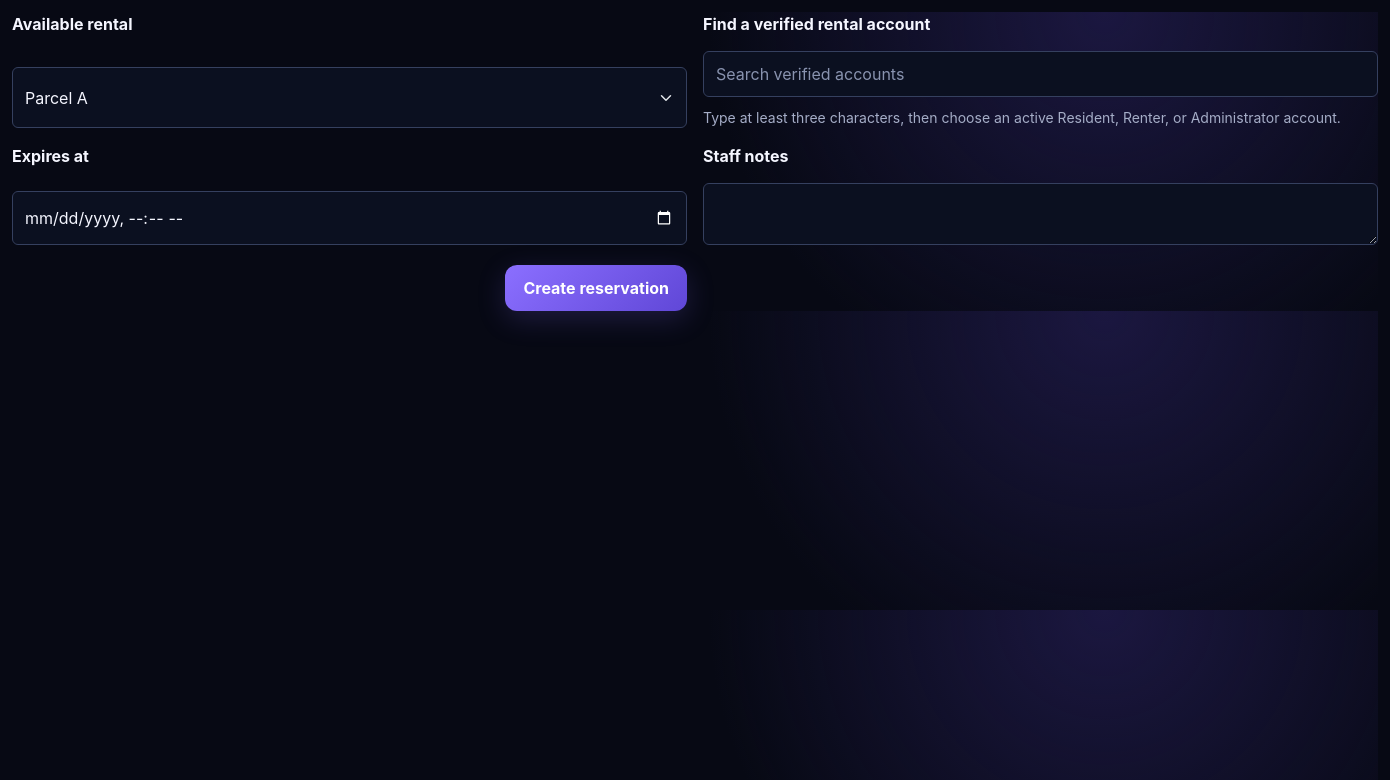
Test: management modal behavior › uses an account typeahead and preserves reservation fields after server errors
The width and height of the screenshot is (1390, 780).
In the dropdown labelled "Find a verified rental account": {"x": 1040, "y": 74} [703,51,1378,97], type "ril"
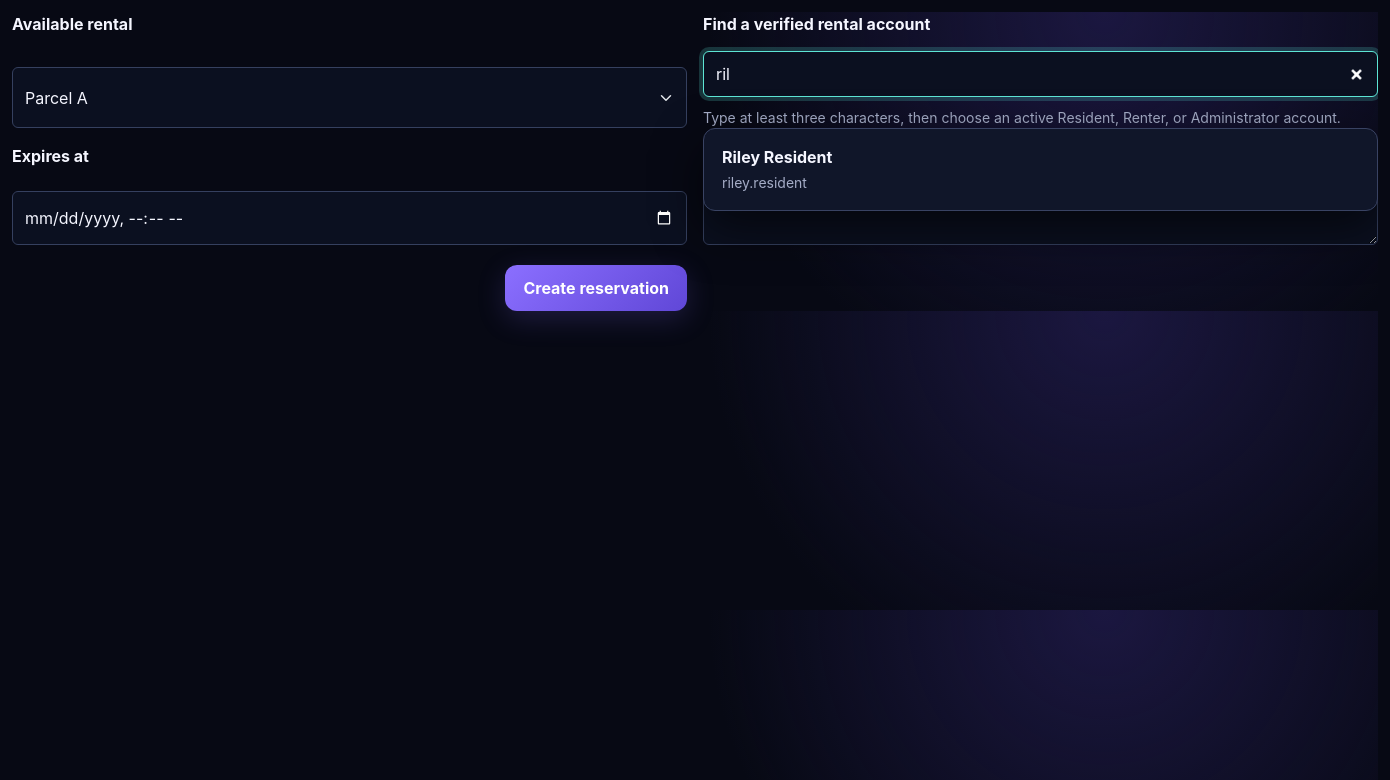
Click the option "Riley Resident riley.resident": {"x": 777, "y": 157} [710,136,1371,204]
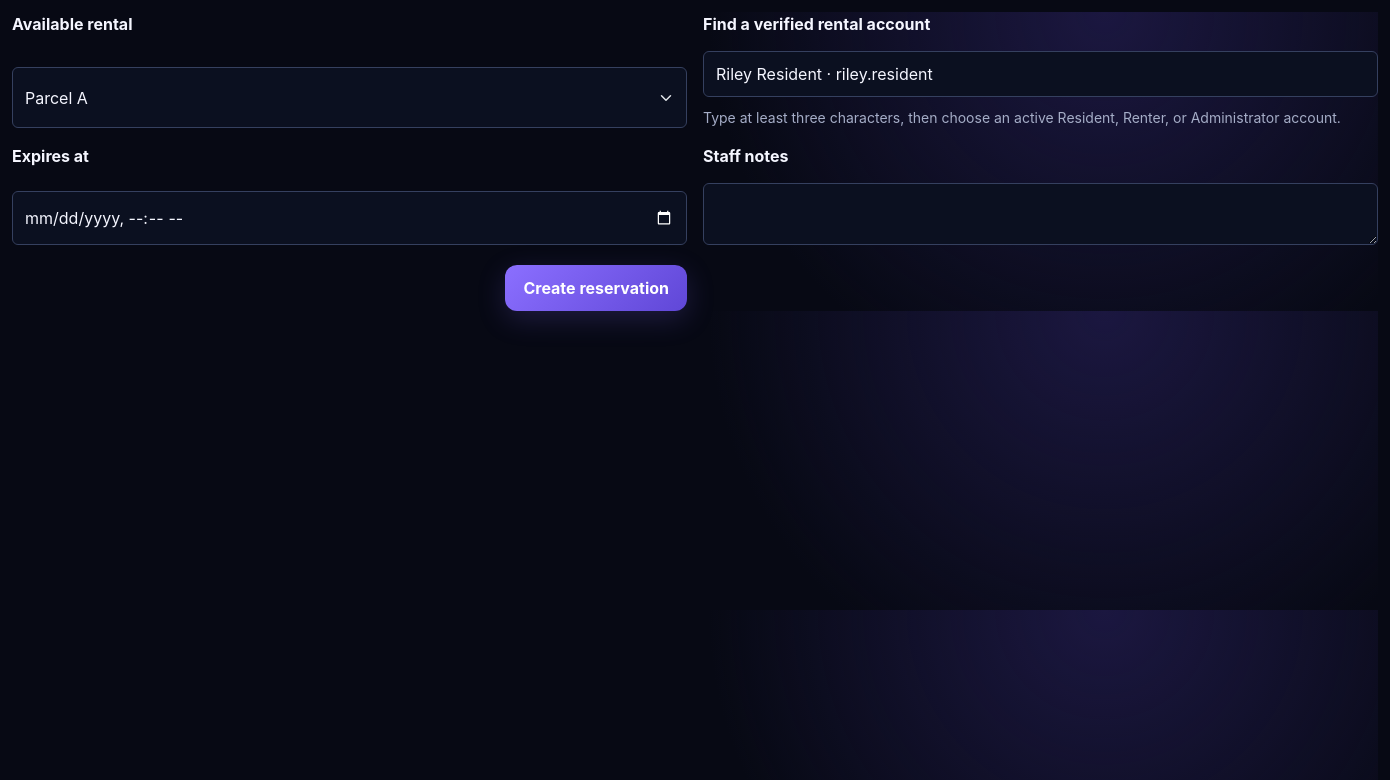
In the field labelled "Expires at": {"x": 350, "y": 218} [12,191,687,245], type "2026-09-15T12:00"
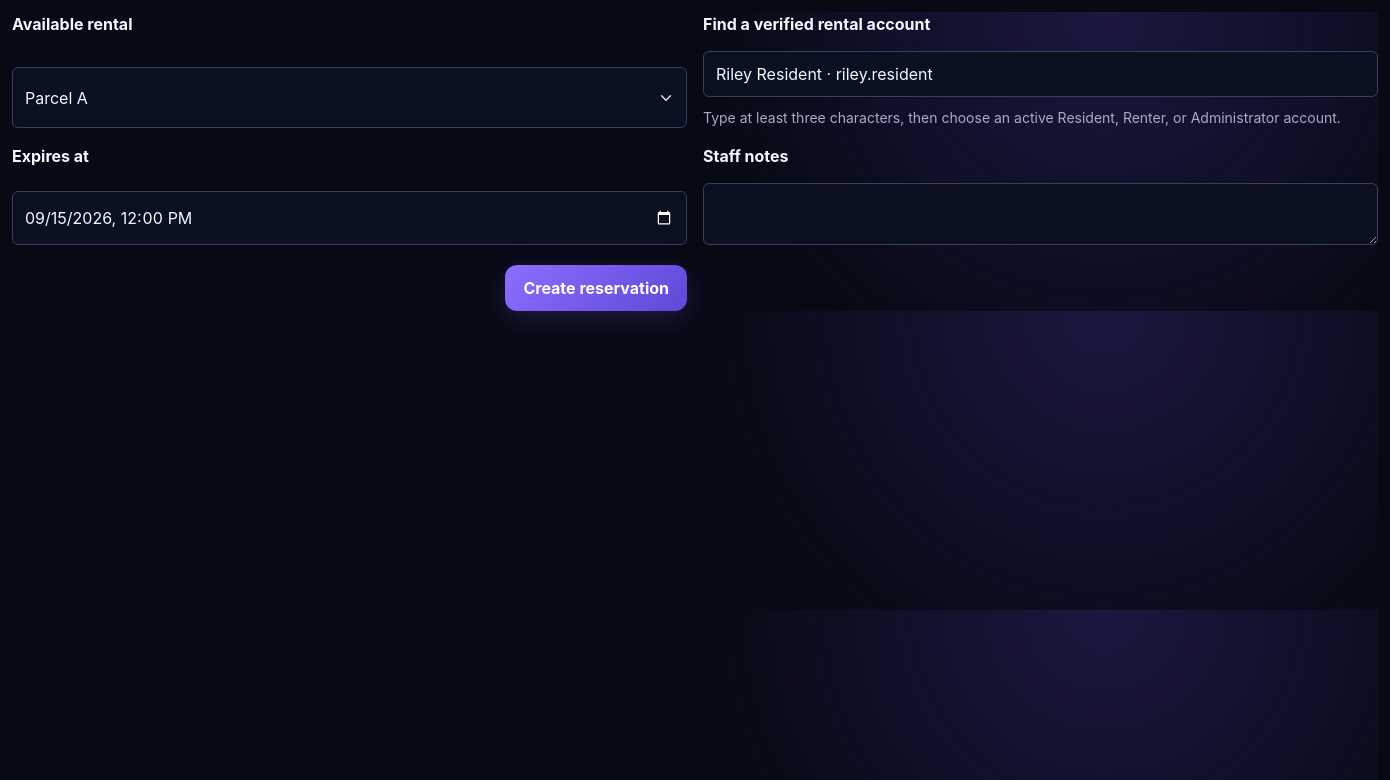
In the text box labelled "Staff notes": {"x": 1040, "y": 214} [703,183,1378,245], type "Keep these notes"
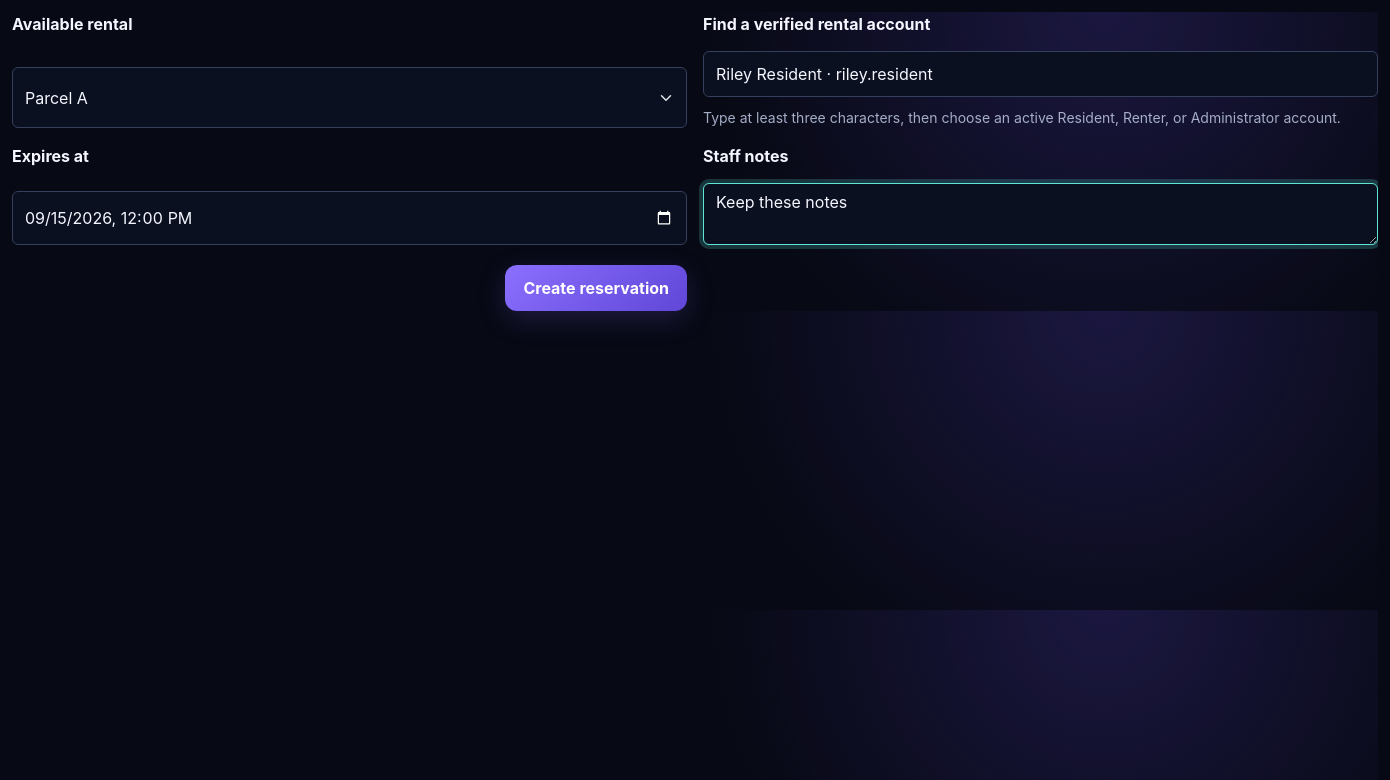
Click the button "Create reservation": {"x": 596, "y": 288} [505,265,687,311]
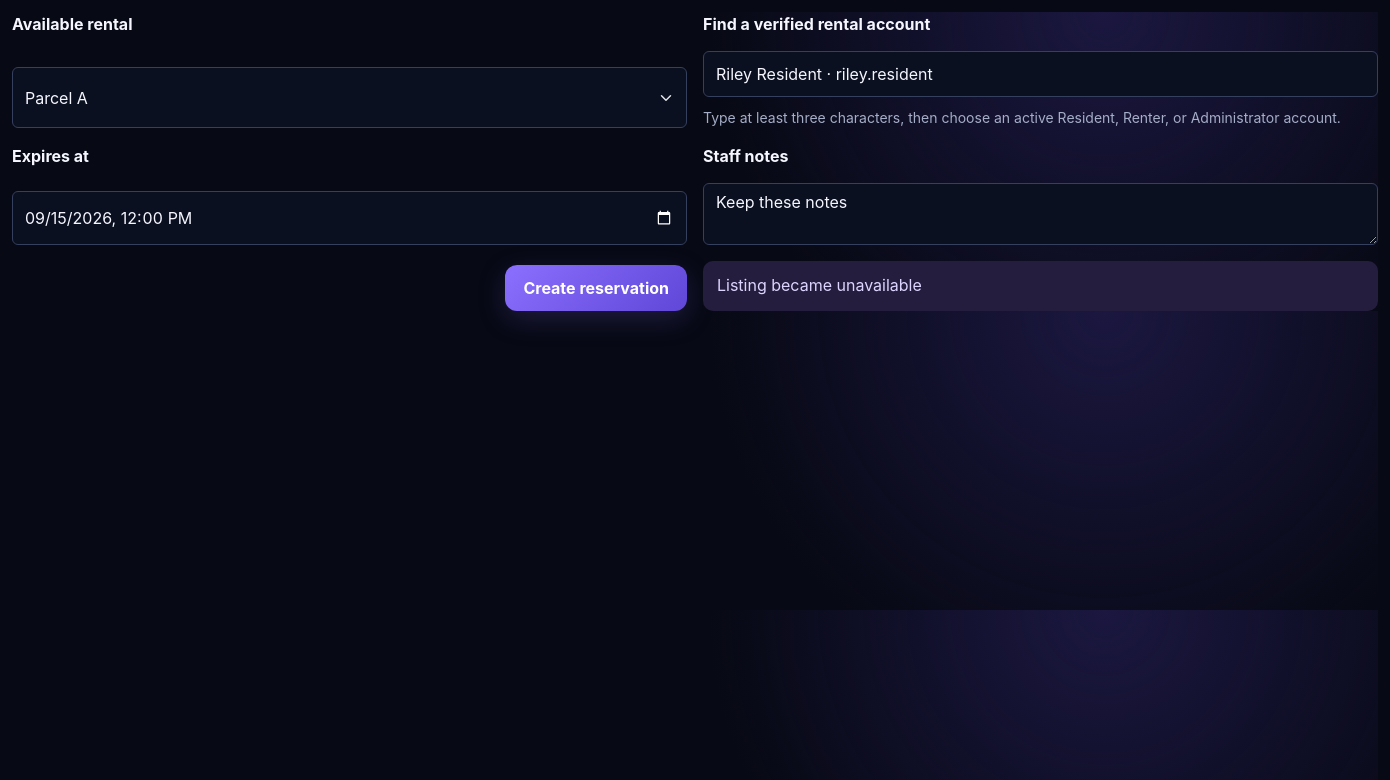
Now the text "Listing became unavailable" is shown, box [703,261,1378,311]
